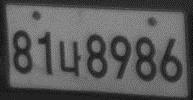1: (37, 30, 53, 77)
6: (158, 38, 183, 82)
8: (84, 33, 108, 78), (11, 29, 34, 75), (134, 36, 157, 81)
9: (109, 34, 132, 79)
나: (57, 39, 82, 77)
